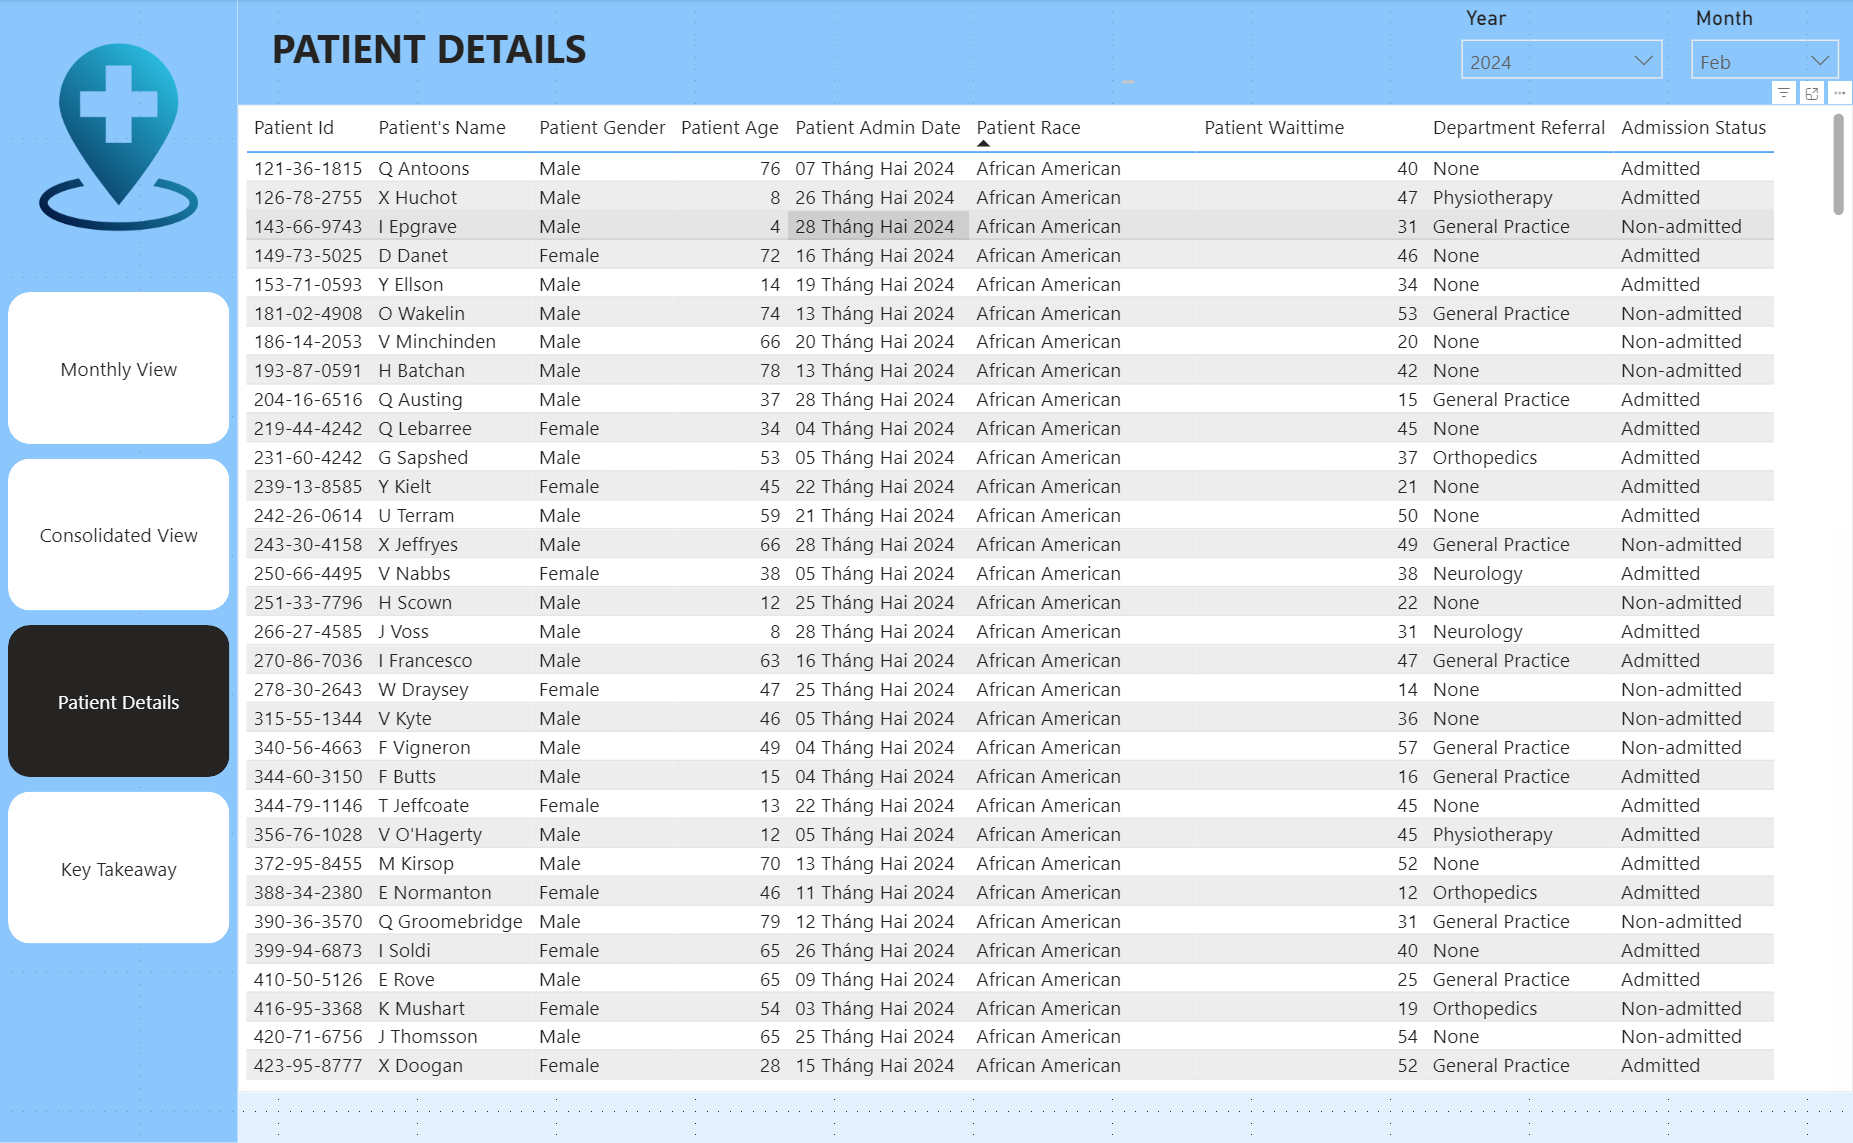

Layout of this report page (visuals, bound fields, positions):
{"tool":"powerbi","page":{"name":"Patient Details","canvas":[1280,790],"ordinal":2},"visuals":[{"type":"shape","box":[0,0,164.5,789.7],"z":0},{"type":"textbox","title":"Patient Age Distribution","box":[164.4,73.2,1106.1,681.7],"z":500,"group":"g1"},{"type":"shape","box":[164.2,0,1115.6,73.5],"z":1000},{"type":"textbox","title":"PATIENT DETAILS ","box":[182.3,15.2,605.7,48.3],"z":2000},{"type":"slicer","fields":{"Values":["Date Table.Year"]},"box":[999.2,0,158.6,73.5],"z":3000},{"type":"slicer","fields":{"Values":["Date Table.Month"]},"box":[1158,0,121.7,72.6],"z":4000},{"type":"group","id":"g1","title":"Time Analysis","box":[164.4,73.2,1106.1,681.7],"z":5000},{"type":"pageNavigator","box":[5.8,202,153.6,450.8],"z":6000},{"type":"tableEx","fields":{"Values":["Hospital ER_Data.Patient Id","Hospital ER_Data.Patient's Name","Hospital ER_Data.Patient Gender","Sum(Hospital ER_Data.Patient Age)","Hospital ER_Data.Patient Admin Date","Hospital ER_Data.Patient Race","Sum(Hospital ER_Data.Patient Waittime)","Hospital ER_Data.Department Referral","Hospital ER_Data.Patient Admission Status"]},"box":[164.4,73.2,1115.4,681.7],"z":7000},{"type":"image","box":[0,30.4,164.4,129.8],"z":8000}]}

Visuals, with their boxes in screenshot pixels (x1, y1, x2, y2), scaled from the page's 1280x790 canvas onto the 1853x1143 screenshot:
shape: (0,0,238,1142)
"Patient Age Distribution" textbox: (238,106,1839,1092)
shape: (238,0,1852,106)
"PATIENT DETAILS " textbox: (264,22,1141,92)
slicer - Date Table.Year: (1446,0,1676,106)
slicer - Date Table.Month: (1676,0,1852,105)
"Time Analysis" group: (238,106,1839,1092)
pageNavigator: (8,292,231,944)
tableEx - Hospital ER_Data.Patient Id x Hospital ER_Data.Patient's Name: (238,106,1852,1092)
image: (0,44,238,232)
